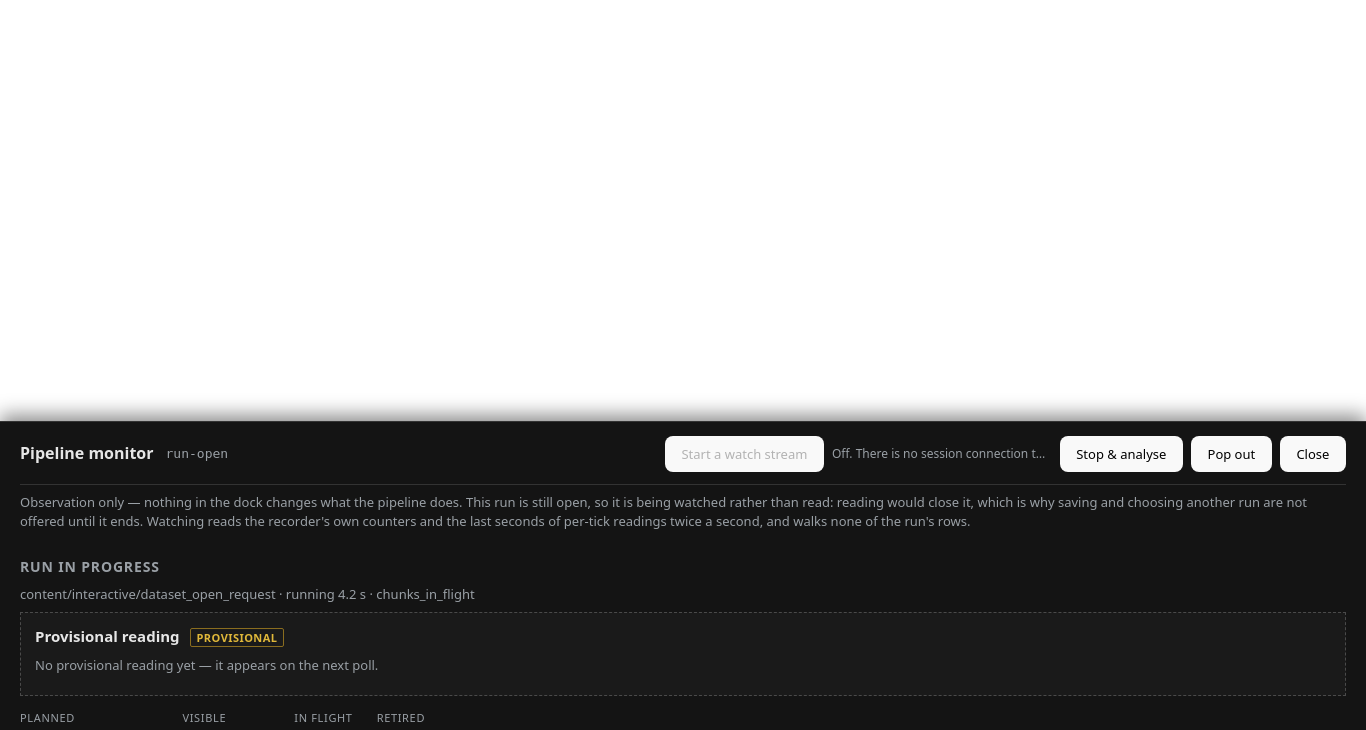
Test case: a run that is still open (#937) › closes the run explicitly on Stop & analyse and shows that run's verdict, no reload
Step 1. Click the button with test id "monitor-stop" → (1121, 454), box x1=1060 y1=436 x2=1183 y2=472
(page scrolled)
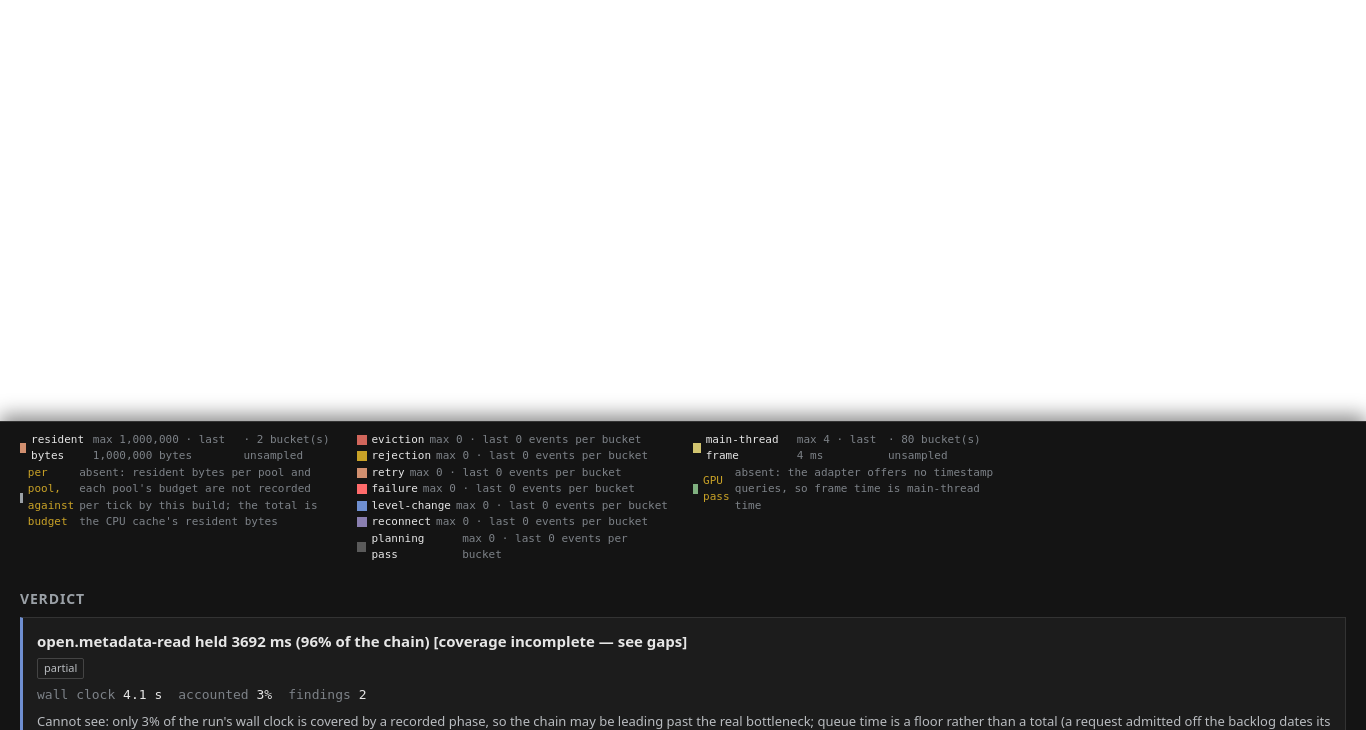
Expected: the heading "Verdict" is shown, x1=20 y1=589 x2=85 y2=608
